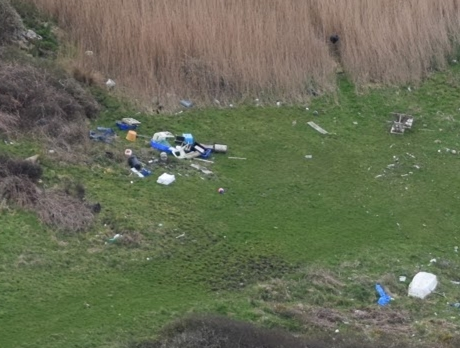scattered_barrel: (366, 256, 448, 318)
together_barrel: (98, 113, 231, 193)
white_in_green: (364, 95, 438, 151), (163, 85, 208, 120), (92, 66, 133, 101)
